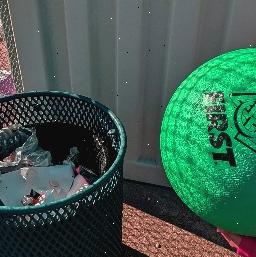algae: (157, 45, 256, 231)
